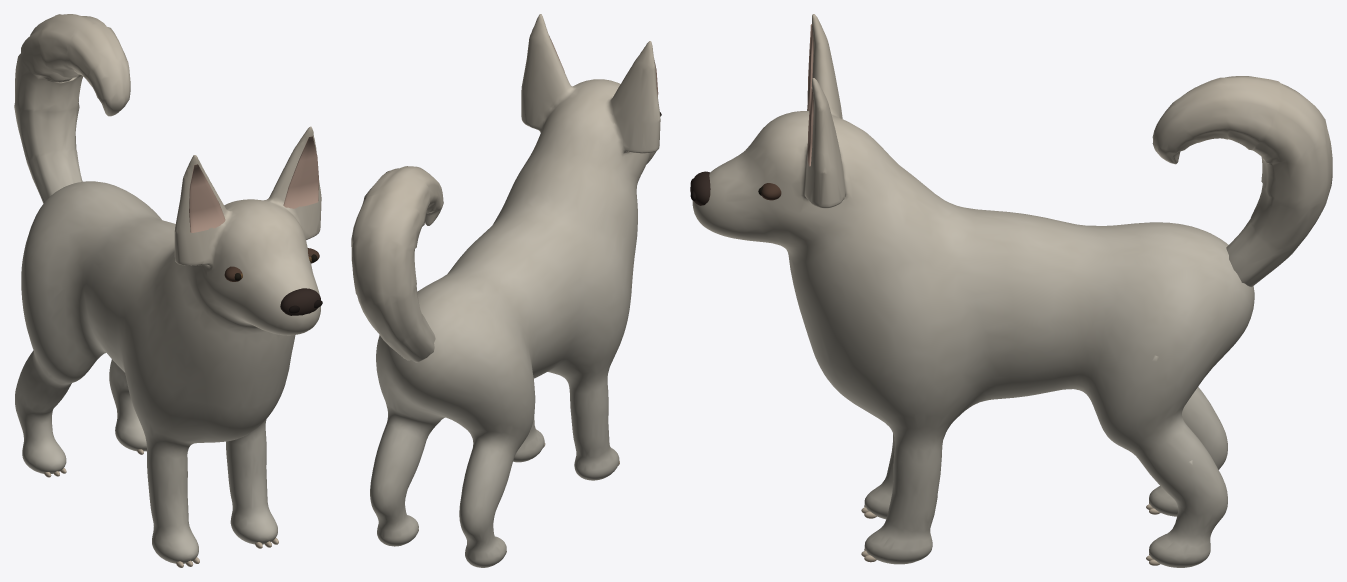
The model's file is jindo.glb.
3 renders of one model, left to right at view 1: azimuth 30°, elevation 25°; view 2: azimuth 150°, elevation 25°; view 3: azimuth 270°, elevation 25°, orthographic. The views are drawn at different scales.
Visible parts, largest first — view 1: JindoBody, JindoTail, Pinna inset, Pinna inset.001, Nose leather; view 2: JindoBody, JindoTail; view 3: JindoBody, JindoTail.
Boxes of the visible parts, x1=… form: JindoBody: x1=15, y1=126, x2=321, y2=563; JindoTail: x1=14, y1=14, x2=130, y2=203; Pinna inset: x1=189, y1=164, x2=225, y2=232; Pinna inset.001: x1=283, y1=136, x2=318, y2=208; Nose leather: x1=280, y1=288, x2=320, y2=315; JindoBody: x1=370, y1=14, x2=660, y2=567; JindoTail: x1=351, y1=166, x2=443, y2=362; JindoBody: x1=692, y1=14, x2=1254, y2=567; JindoTail: x1=1152, y1=76, x2=1332, y2=287.
Bounding box in the file's own units: 0.4142 × 1.14 × 1.35.
